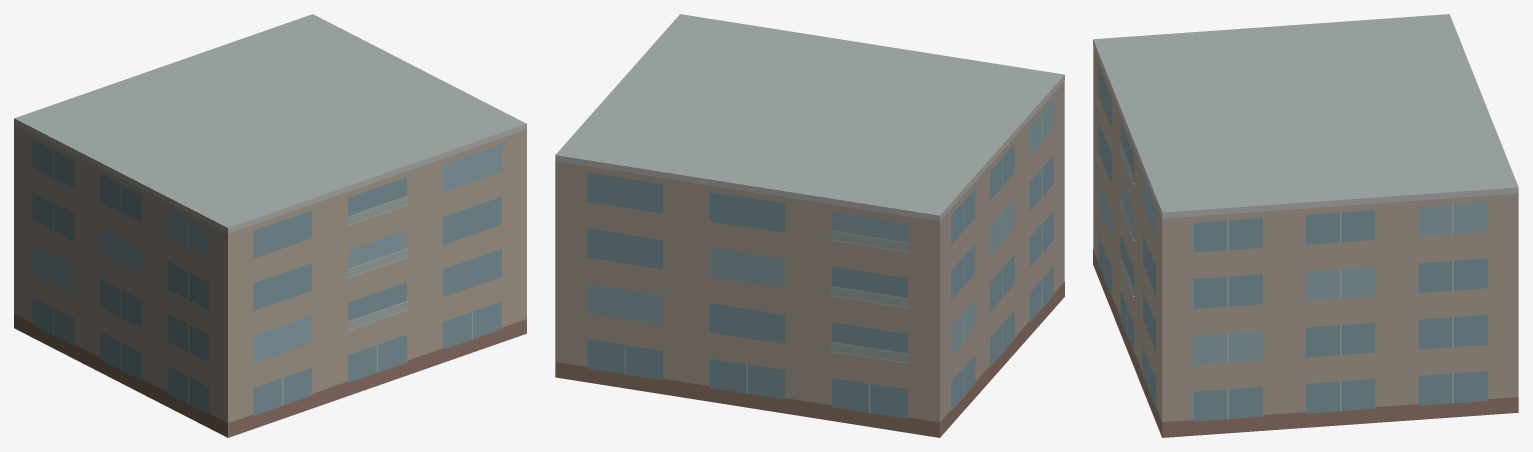
The model's file is survey-upis-32938518.glb.
3 renders of one model, left to right at view 1: azimuth 30°, elevation 25°; view 2: azimuth 150°, elevation 25°; view 3: azimuth 270°, elevation 25°, orthographic. The views are drawn at different scales.
Parts seen in each view (by area): view 1: survey-upis-32938518.tmp; view 2: survey-upis-32938518.tmp; view 3: survey-upis-32938518.tmp.
Boxes of the visible parts, x1,y1,x2,y2 form: survey-upis-32938518.tmp: [14, 14, 526, 437]; survey-upis-32938518.tmp: [555, 14, 1064, 437]; survey-upis-32938518.tmp: [1093, 14, 1518, 437].
Bounding box in the file's own units: 17.21 × 9.1 × 15.59.
